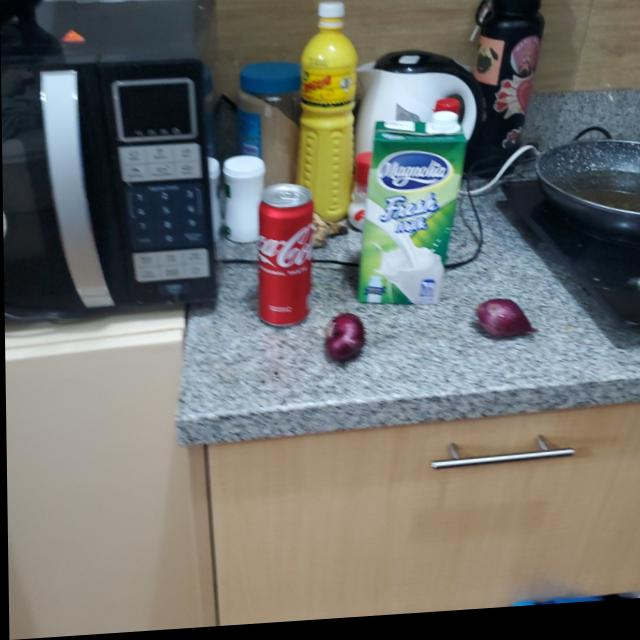coke: (258, 187, 318, 335)
milk: (355, 119, 469, 310)
onion: (476, 300, 534, 348), (319, 317, 370, 371)
